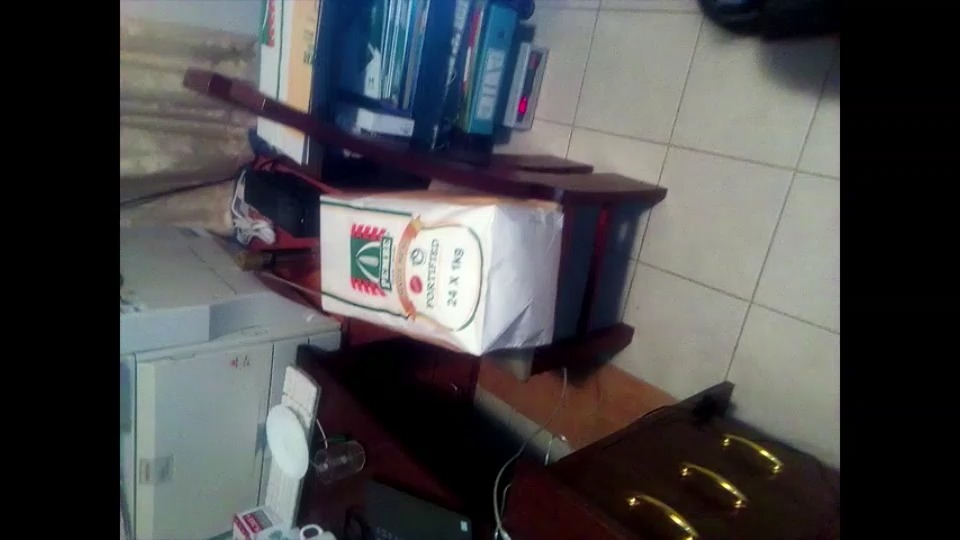maize_flour_green_label: (319, 191, 560, 354)
